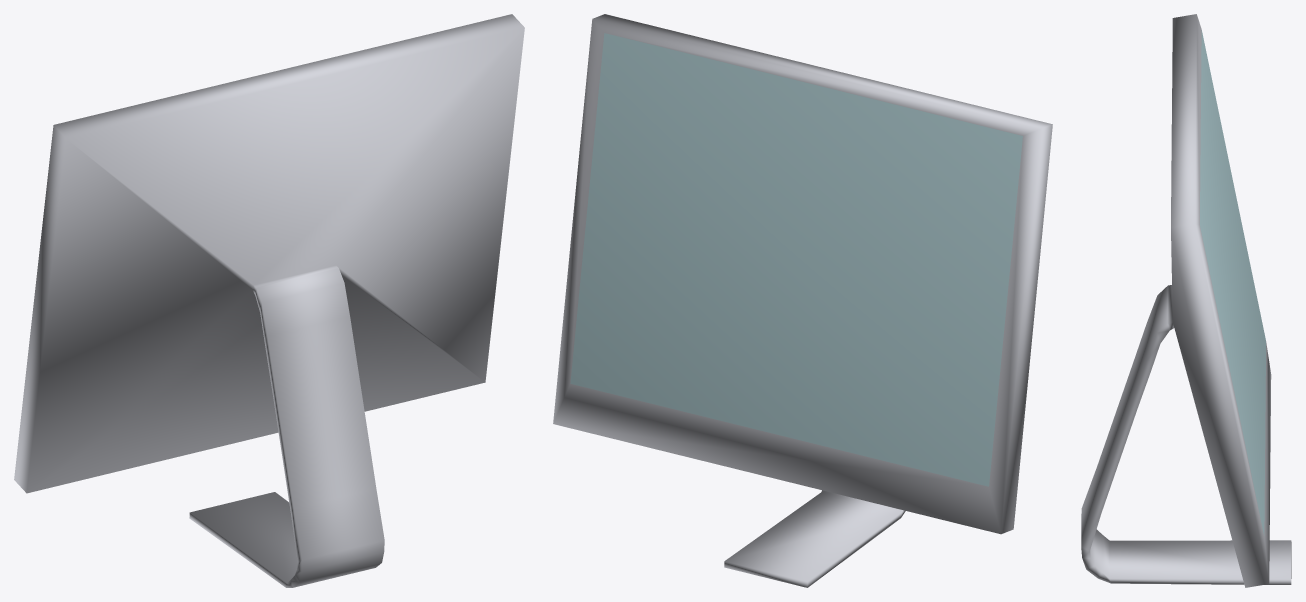
The model's file is bilgisayar.fbx.
3 views of the same model, side by side, from view 1: azimuth 30°, elevation 25°; view 2: azimuth 150°, elevation 25°; view 3: azimuth 270°, elevation 25° (orthographic). The views are drawn at different scales.
Visible parts, largest first — view 1: Cube.005; view 2: Cube.005; view 3: Cube.005.
Boxes of the visible parts, bbox=[...] form: Cube.005: bbox=[14, 14, 524, 587]; Cube.005: bbox=[553, 14, 1052, 587]; Cube.005: bbox=[1081, 14, 1291, 587].
Size of the model in its own units: 196 by 195 by 83.24.
